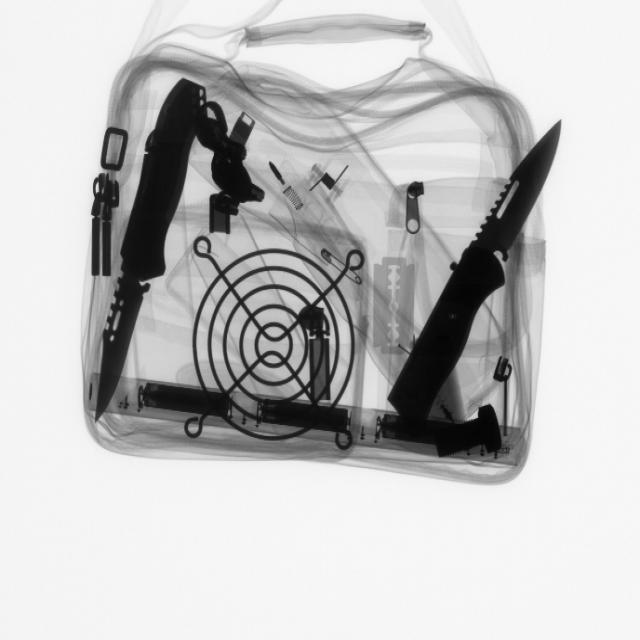BLADE: (370, 248, 422, 360)
